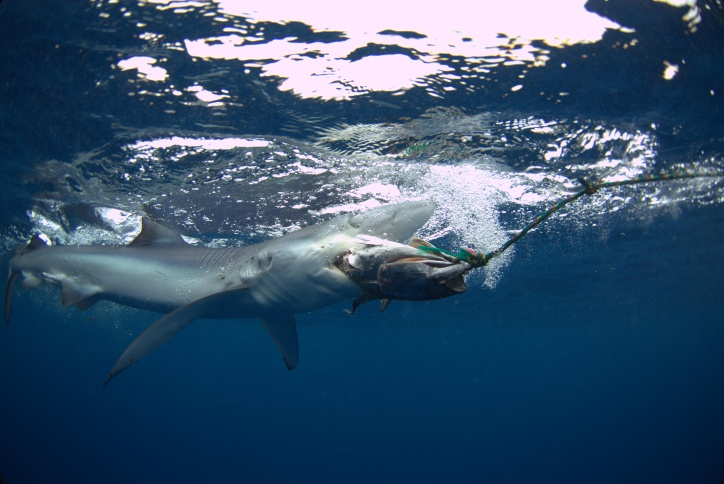Azul: (1, 191, 440, 397)
